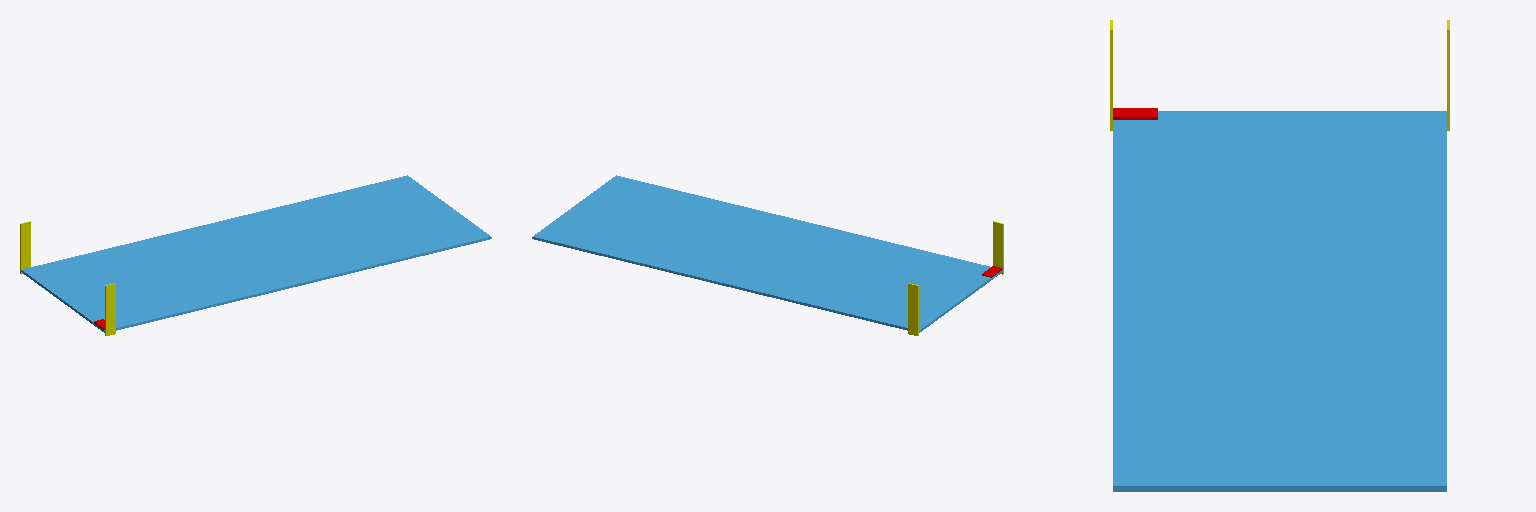
The robot description file, URDF, robot "service_roboter":
<?xml version="1.0" ?>
<!-- =================================================================================== -->
<!-- |    This document was autogenerated by xacro from /data/basis_roboter.urdf.xacro | -->
<!-- |    EDITING THIS FILE BY HAND IS NOT RECOMMENDED                                 | -->
<!-- =================================================================================== -->
<robot name="service_roboter">
  <link name="base_link">
    <visual>
      <origin rpy="0.0 0.0 0.0" xyz="0.0 0.0 0.0"/>
      <geometry>
        <box size="0.01 0.01 0.01"/>
      </geometry>
      <material name="Cyan">
        <color rgba="0 0.9 0.9 1.0"/>
      </material>
    </visual>
  </link>
  <link name="table_link">
    <visual>
      <origin rpy="0.0 0.0 0.0" xyz="2.0 0.75 -0.0125"/>
      <geometry>
        <box size="4.0 1.5 0.025"/>
      </geometry>
    </visual>
  </link>
  <joint name="table_joint" type="fixed">
    <parent link="base_link"/>
    <child link="table_link"/>
    <origin rpy="0.0 0.0 0.0" xyz="0.0 0.0 0.0"/>
  </joint>
  <link name="head_link">
    <visual>
      <origin rpy="0.0 0.0 0.0" xyz="0.05 0.1 0.0075"/>
      <geometry>
        <box size="0.1 0.2 0.015"/>
      </geometry>
      <material name="Cyan">
        <color rgba="0.9 0.0 0.0 1.0"/>
      </material>
    </visual>
  </link>
  <joint name="head_joint" type="fixed">
    <parent link="head_z_link"/>
    <child link="head_link"/>
    <origin rpy="0.0 0.0 0.0" xyz="0.0 0.0 0.0"/>
  </joint>
  <link name="head_x_link">
    <visual>
      <origin rpy="0.0 0.0 0.0" xyz="0.0 0.0 0.0"/>
      <geometry>
        <box size="0.01 0.01 0.01"/>
      </geometry>
      <material name="Cyan">
        <color rgba="0 0.9 0.9 1.0"/>
      </material>
    </visual>
  </link>
  <joint name="head_x_joint" type="prismatic">
    <parent link="base_link"/>
    <child link="head_x_link"/>
    <axis xyz="1.0 0.0 0.0"/>
    <limit effort="1000.0" lower="0.0" upper="3.9" velocity="0.5"/>
    <origin rpy="0.0 0.0 0.0" xyz="0.0 0.0 0.0"/>
  </joint>
  <link name="head_y_link">
    <visual>
      <origin rpy="0.0 0.0 0.0" xyz="0.0 0.0 0.0"/>
      <geometry>
        <box size="0.01 0.01 0.01"/>
      </geometry>
      <material name="Cyan">
        <color rgba="0 0.9 0.9 1.0"/>
      </material>
    </visual>
  </link>
  <joint name="head_y_joint" type="prismatic">
    <parent link="head_x_link"/>
    <child link="head_y_link"/>
    <axis xyz="0.0 1.0 0.0"/>
    <limit effort="1000.0" lower="0.0" upper="1.3" velocity="0.5"/>
    <origin rpy="0.0 0.0 0.0" xyz="0.0 0.0 0.0"/>
  </joint>
  <link name="head_z_link">
    <visual>
      <origin rpy="0.0 0.0 0.0" xyz="0.0 0.0 0.0"/>
      <geometry>
        <box size="0.01 0.01 0.01"/>
      </geometry>
      <material name="Cyan">
        <color rgba="0 0.9 0.9 1.0"/>
      </material>
    </visual>
  </link>
  <joint name="head_z_joint" type="prismatic">
    <parent link="head_y_link"/>
    <child link="head_z_link"/>
    <axis xyz="0.0 0.0 1.0"/>
    <limit effort="1000.0" lower="0.0" upper="0.6" velocity="0.5"/>
    <origin rpy="0.0 0.0 0.0" xyz="0.0 0.0 0.0"/>
  </joint>
  <link name="sled_right_link">
    <visual>
      <origin rpy="0.0 0.0 0.0" xyz="0.05 -0.0075 0.19999999999999998"/>
      <geometry>
        <box size="0.1 0.015 0.5"/>
      </geometry>
      <material name="Cyan">
        <color rgba="0.9 0.9 0.0 1.0"/>
      </material>
    </visual>
  </link>
  <joint name="sled_right_joint" type="fixed">
    <parent link="head_x_link"/>
    <child link="sled_right_link"/>
    <origin rpy="0.0 0.0 0.0" xyz="0.0 0.0 0.0"/>
  </joint>
  <link name="sled_left_link">
    <visual>
      <origin rpy="0.0 0.0 0.0" xyz="0.05 1.5075 0.19999999999999998"/>
      <geometry>
        <box size="0.1 0.015 0.5"/>
      </geometry>
      <material name="Cyan">
        <color rgba="0.9 0.9 0.0 1.0"/>
      </material>
    </visual>
  </link>
  <joint name="sled_left_joint" type="fixed">
    <parent link="head_x_link"/>
    <child link="sled_left_link"/>
    <origin rpy="0.0 0.0 0.0" xyz="0.0 0.0 0.0"/>
  </joint>
</robot>

--- What the picture shows (computed from the rendered views, not written in the file) ---
Views: 3 orthographic renders of the robot side by side, from view 1: azimuth 30°, elevation 25°; view 2: azimuth 150°, elevation 25°; view 3: azimuth 270°, elevation 25°.
Model service_roboter with 8 links and 7 joints (3 prismatic, 4 fixed), rooted at base_link, posed every joint at zero.
Visible links, largest first — view 1: table_link, sled_right_link; view 2: table_link, sled_left_link; view 3: table_link, head_link.
Link boxes in pixels (left/top/right/bottom): table_link: left=21, top=175, right=491, bottom=332; sled_right_link: left=105, top=283, right=115, bottom=335; table_link: left=532, top=175, right=1002, bottom=332; sled_left_link: left=908, top=283, right=918, bottom=335; table_link: left=1113, top=111, right=1446, bottom=491; head_link: left=1113, top=108, right=1157, bottom=119.
Bounding box of the posed robot: 4 × 1.53 × 0.5 m (x, y, z).
Geometry: primitives only (box / cylinder / sphere), no mesh files.